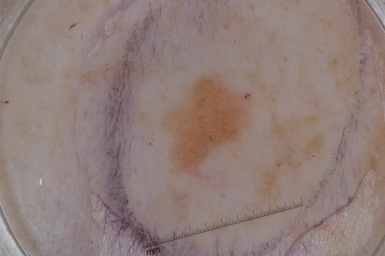seborrheic keratosis: (148, 63, 271, 191)
